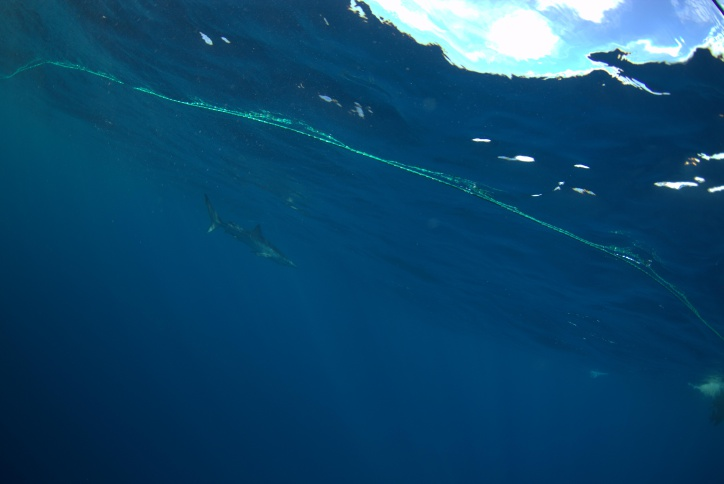Azul: (176, 169, 724, 430), (183, 186, 318, 286)
